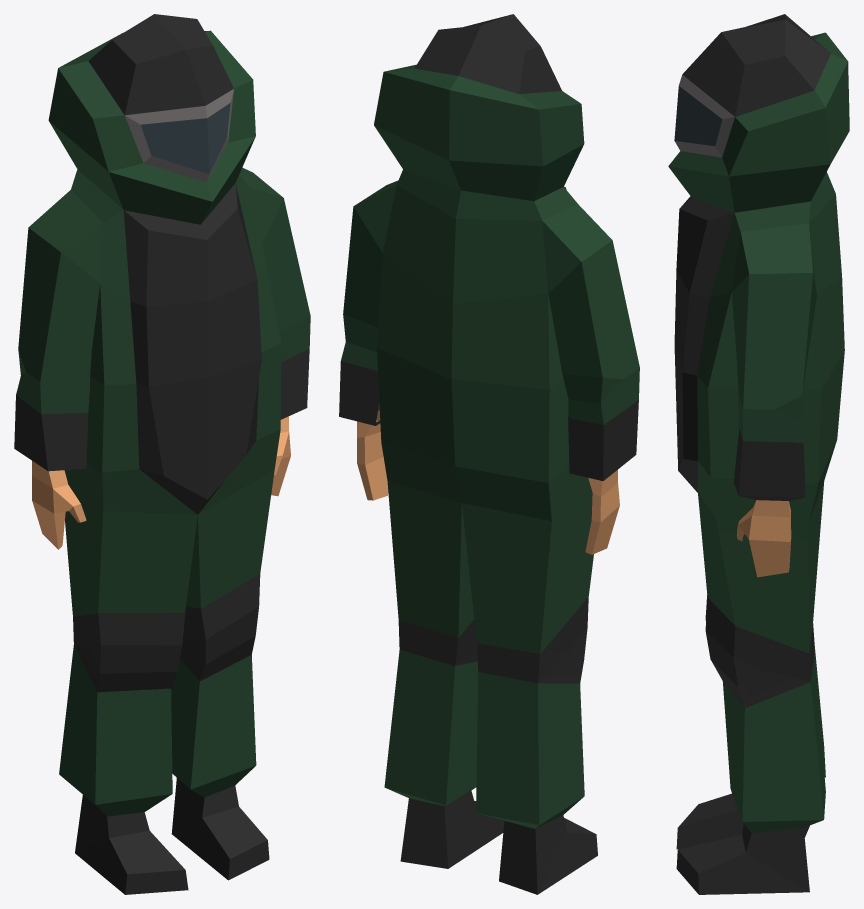
File: people_man-eod.fbx
The picture shows the model from 3 angles, left to right: view 1: azimuth 30°, elevation 25°; view 2: azimuth 150°, elevation 25°; view 3: azimuth 270°, elevation 25°; orthographic projection.
Visible parts, largest first — view 1: people_man_eod; view 2: people_man_eod; view 3: people_man_eod.
Boxes of the visible parts, x1=… form: people_man_eod: x1=14, y1=14, x2=310, y2=894; people_man_eod: x1=339, y1=14, x2=639, y2=894; people_man_eod: x1=668, y1=14, x2=849, y2=894.
Bounding box in the file's own units: 68.05 × 200 × 39.21.
